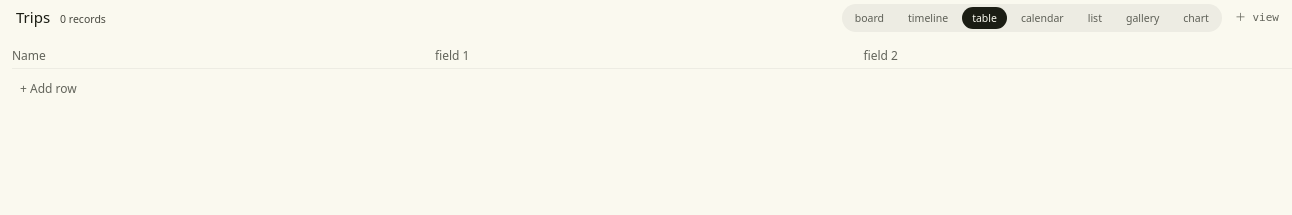
Test: CollectionTable — the person's path, start to finish (KAN-380, PATH_STEPS 2-5) › try to break it: an empty name reverts, writing nothing
Click the button "field 2": (881, 56) [863,48,1280,64]
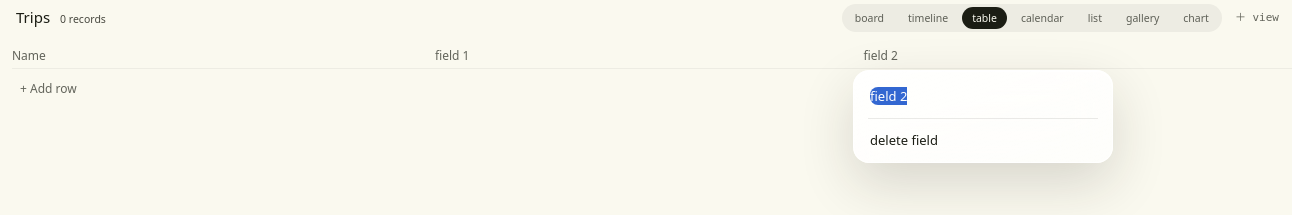
Clear the field named "field name": (983, 96) [870,87,1096,105]
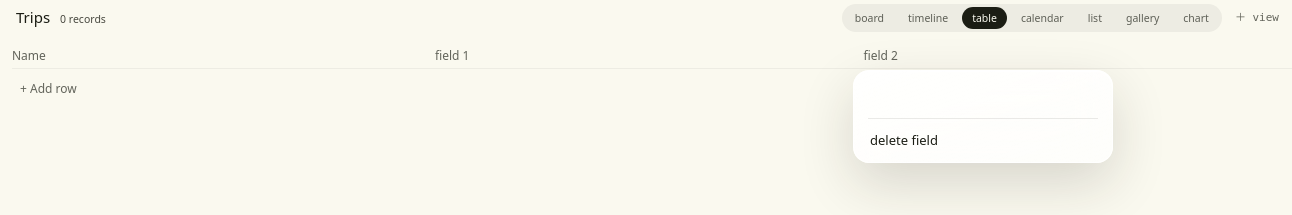
Press Enter
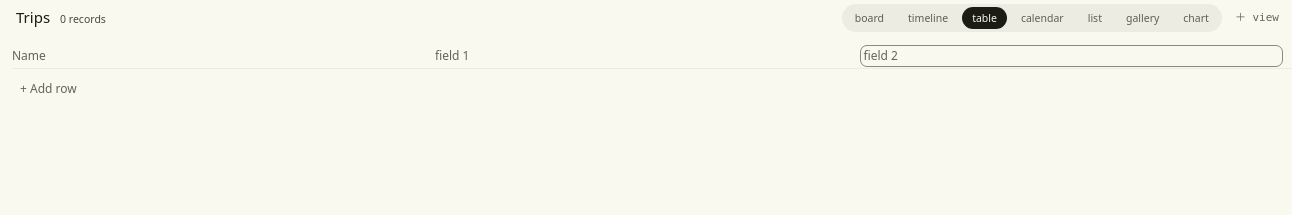
expect the button "field 2" is shown: met, box [863,48,1280,64]
expect the menu "field 2 field menu" is gone: met
